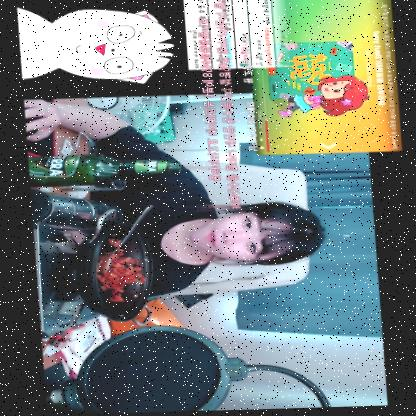donation: (191, 0, 404, 215)
streamer: (21, 92, 325, 301)
